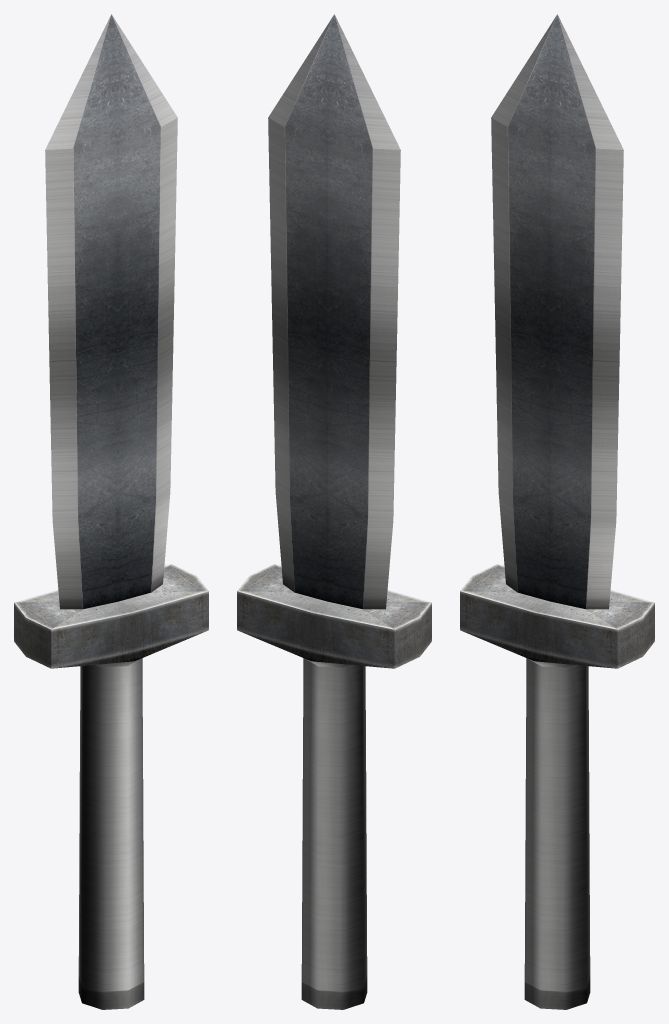
The model's file is spear03.FBX.
3 views of the same model, side by side, from view 1: azimuth 30°, elevation 25°; view 2: azimuth 150°, elevation 25°; view 3: azimuth 330°, elevation 25° (orthographic).
Visible parts, largest first — view 1: Weapon1; view 2: Weapon1; view 3: Weapon1.
Part boxes in pixels (left/top/right/bottom): Weapon1: left=14, top=14, right=208, bottom=1009; Weapon1: left=237, top=14, right=431, bottom=1009; Weapon1: left=460, top=14, right=654, bottom=1009.
Bounding box in the file's own units: 9.96 × 4.71 × 54.65.
